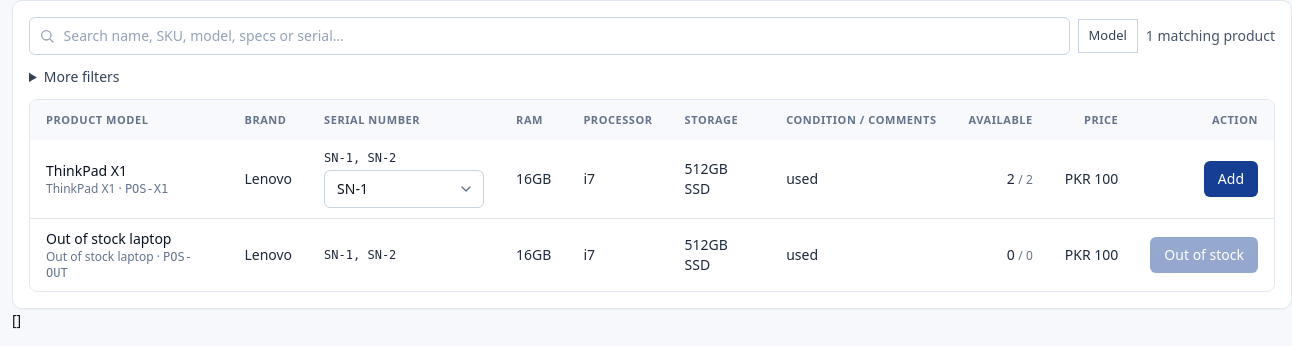
Test: POS product picker › adds the selected individual serial unit once and prevents quantity beyond stock
Select "SN-1" in the dropdown named "Serial number for ThinkPad X1". click: (404, 189)
box: [324,170,484,208]
Click the button "Add". click: (1231, 179)
box: [1204,161,1258,197]
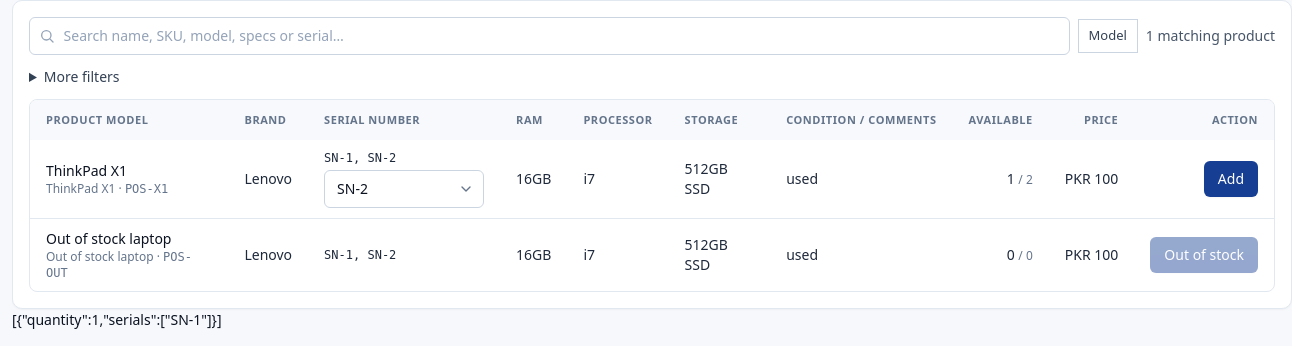
Result: the text named "Cart state" reads "[{\"quantity\":1,\"serials\":[\"SN-1\"]}]" at [12,310,222,329]
Select "SN-2" in the dropdown named "Serial number for ThinkPad X1". click: (404, 189)
box: [324,170,484,208]
Click the button "Add". click: (1231, 179)
box: [1204,161,1258,197]
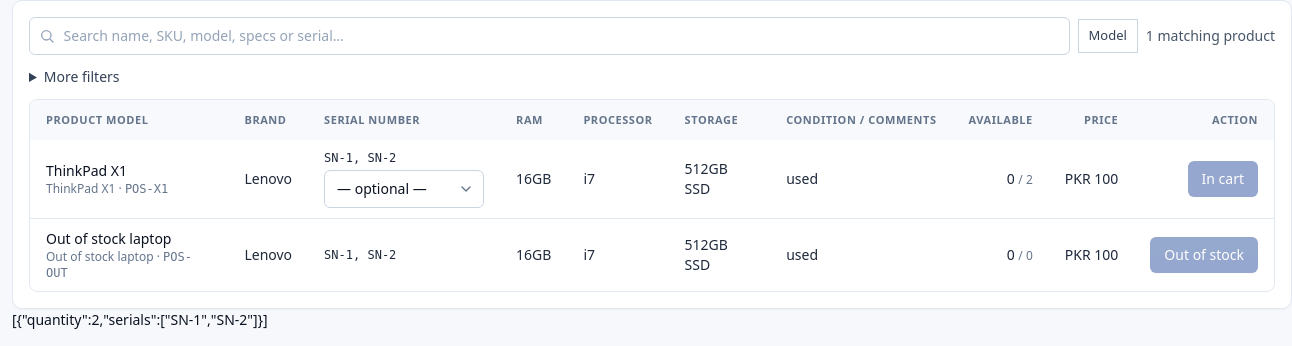
Expected: the button "Out of stock" is disabled, [1150,237,1258,273]
Result: the text named "Cart state" reads "[{\"quantity\":2,\"serials\":[\"SN-1\",\"SN-2\"]}]" at [12,310,268,329]
Result: the button "In cart" is disabled at [1188,161,1258,197]
